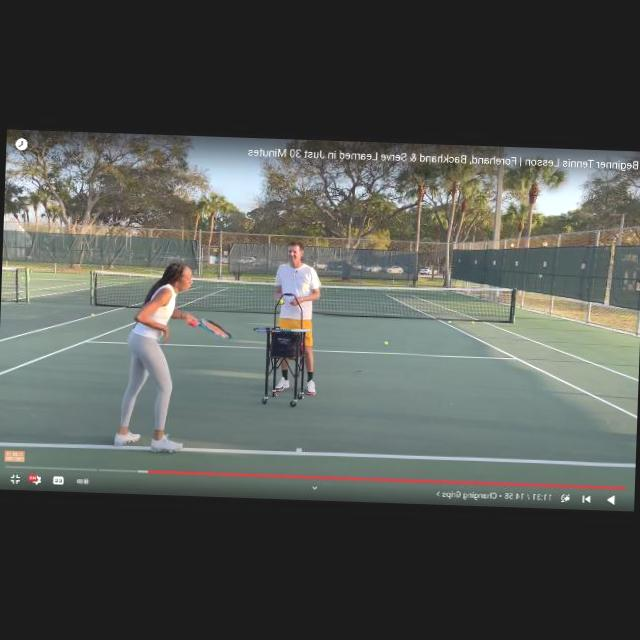Tennis Ball: (384, 340, 388, 344), (91, 313, 95, 316), (471, 321, 474, 324), (447, 321, 450, 324)
